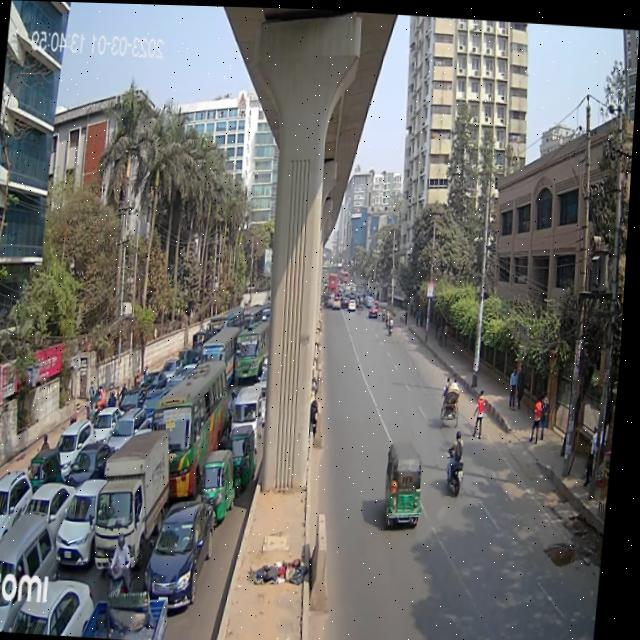cng: (385, 425, 436, 533), (201, 447, 239, 537), (30, 441, 71, 505), (231, 419, 265, 488)
rikshaw: (441, 372, 469, 429)
